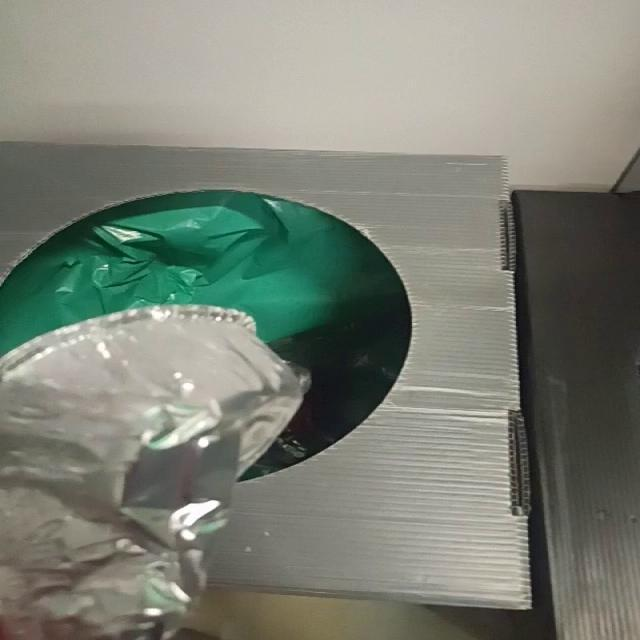Bin: (3, 143, 532, 610)
Metal: (1, 305, 307, 640)
